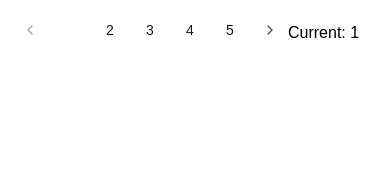
Scenario: Pagination › Controlled state › keeps the displayed page controlled by the parent
Click the button named "Go to next page". click: (270, 30)
box: [252, 12, 288, 48]
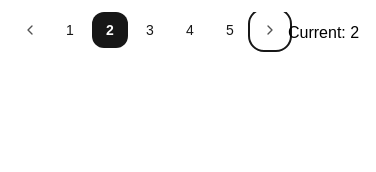
Expected: the text "Current: 2" is shown, [288, 24, 359, 41]
